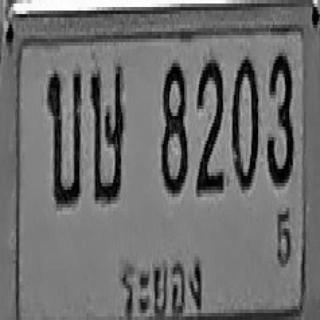A26: (46, 65, 81, 206)
A39: (90, 63, 124, 200)
N00: (231, 53, 258, 190)
N02: (196, 56, 224, 193)
N03: (267, 49, 294, 183)
N08: (160, 58, 188, 192)
P53: (117, 246, 206, 320)
